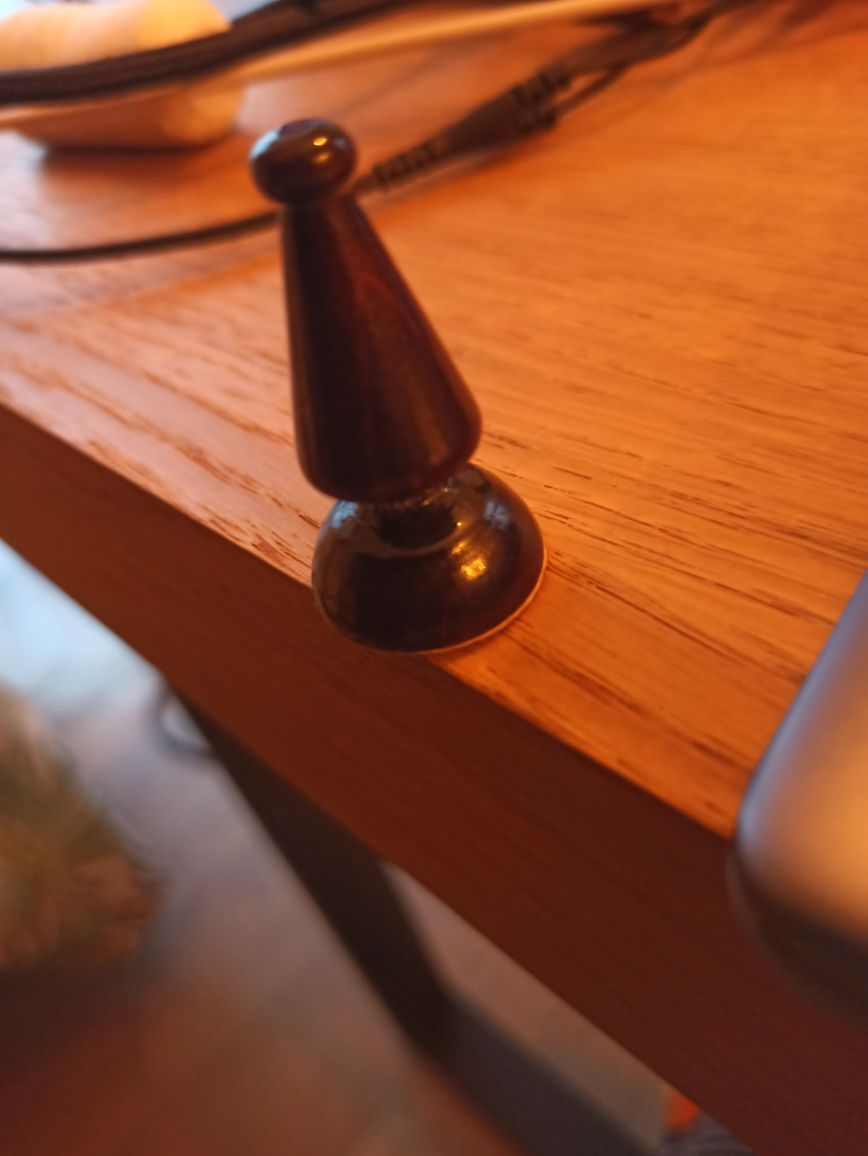bbishop: (247, 118, 543, 653)
